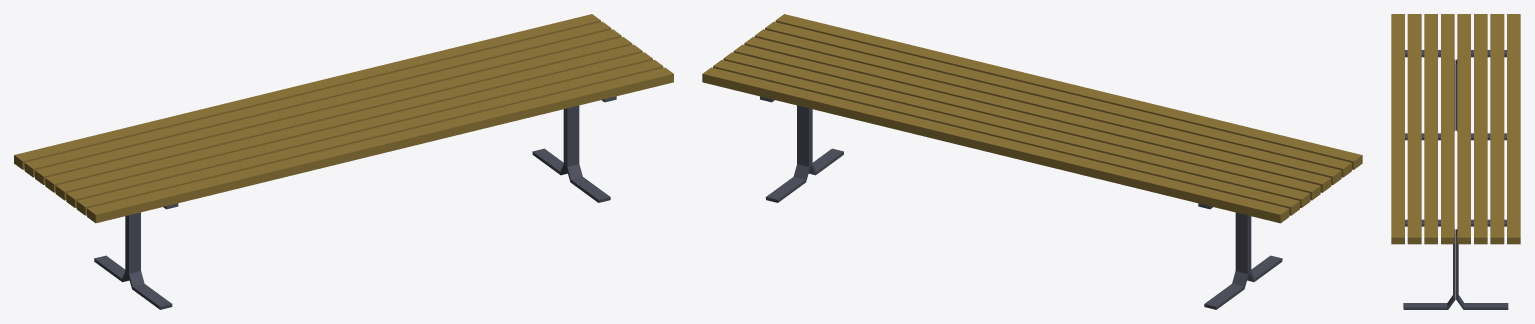
3 renders of one model, left to right at view 1: azimuth 30°, elevation 25°; view 2: azimuth 150°, elevation 25°; view 3: azimuth 270°, elevation 25°, orthographic. The views are drawn at different scales.
Parts seen in each view (by area): view 1: mesh7_mesh7-geometry, mesh2_mesh2-geometry, mesh3_mesh3-geometry, mesh8_mesh8-geometry, mesh4_mesh4-geometry, mesh9_mesh9-geometry, mesh5_mesh5-geometry, mesh6_mesh6-geometry, mesh1_mesh1-geometry; view 2: mesh6_mesh6-geometry, mesh2_mesh2-geometry, mesh3_mesh3-geometry, mesh7_mesh7-geometry, mesh4_mesh4-geometry, mesh5_mesh5-geometry, mesh9_mesh9-geometry, mesh8_mesh8-geometry, mesh1_mesh1-geometry; view 3: mesh5_mesh5-geometry, mesh8_mesh8-geometry, mesh2_mesh2-geometry, mesh3_mesh3-geometry, mesh4_mesh4-geometry, mesh6_mesh6-geometry, mesh7_mesh7-geometry, mesh9_mesh9-geometry, mesh1_mesh1-geometry.
Part boxes in pixels (bbox=[...]): mesh7_mesh7-geometry: bbox=[87, 67, 673, 223]; mesh2_mesh2-geometry: bbox=[55, 44, 642, 200]; mesh3_mesh3-geometry: bbox=[45, 37, 632, 192]; mesh8_mesh8-geometry: bbox=[76, 60, 663, 215]; mesh4_mesh4-geometry: bbox=[35, 29, 621, 184]; mesh9_mesh9-geometry: bbox=[66, 52, 652, 207]; mesh5_mesh5-geometry: bbox=[24, 21, 611, 177]; mesh6_mesh6-geometry: bbox=[14, 14, 600, 169]; mesh1_mesh1-geometry: bbox=[94, 96, 616, 309]; mesh6_mesh6-geometry: bbox=[702, 67, 1289, 223]; mesh2_mesh2-geometry: bbox=[744, 37, 1331, 192]; mesh3_mesh3-geometry: bbox=[733, 44, 1320, 200]; mesh7_mesh7-geometry: bbox=[775, 14, 1362, 169]; mesh4_mesh4-geometry: bbox=[723, 52, 1310, 207]; mesh5_mesh5-geometry: bbox=[713, 60, 1299, 215]; mesh9_mesh9-geometry: bbox=[754, 29, 1341, 185]; mesh8_mesh8-geometry: bbox=[765, 21, 1351, 177]; mesh1_mesh1-geometry: bbox=[760, 96, 1282, 309]; mesh5_mesh5-geometry: bbox=[1490, 14, 1504, 244]; mesh8_mesh8-geometry: bbox=[1407, 14, 1421, 244]; mesh2_mesh2-geometry: bbox=[1441, 14, 1454, 244]; mesh3_mesh3-geometry: bbox=[1457, 14, 1470, 244]; mesh4_mesh4-geometry: bbox=[1474, 14, 1487, 244]; mesh6_mesh6-geometry: bbox=[1507, 14, 1520, 244]; mesh7_mesh7-geometry: bbox=[1391, 14, 1404, 244]; mesh9_mesh9-geometry: bbox=[1424, 14, 1437, 244]; mesh1_mesh1-geometry: bbox=[1403, 50, 1508, 309].
Size of the model in its own units: 0.9542 by 0.1869 by 0.2336.
